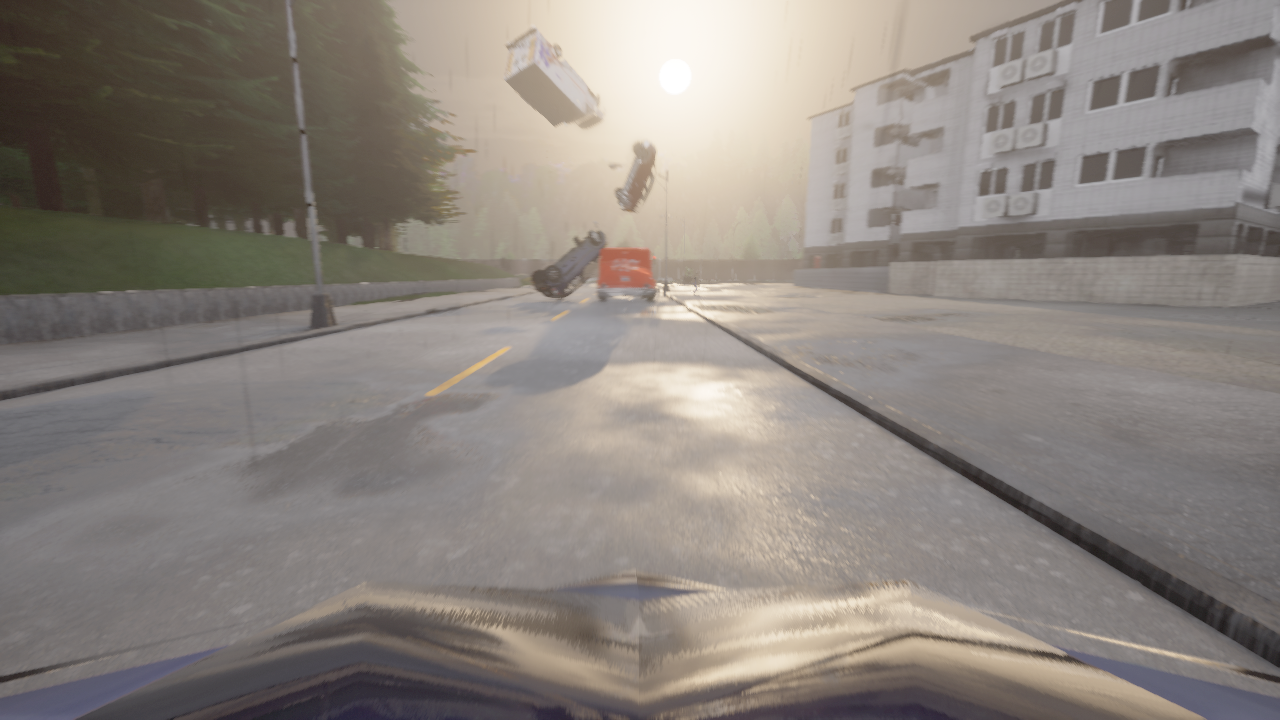cyclist: (0, 569, 1279, 719), (503, 25, 606, 129), (532, 229, 607, 298), (614, 140, 656, 212), (598, 248, 655, 300)
pedestrian: (693, 272, 698, 293)
